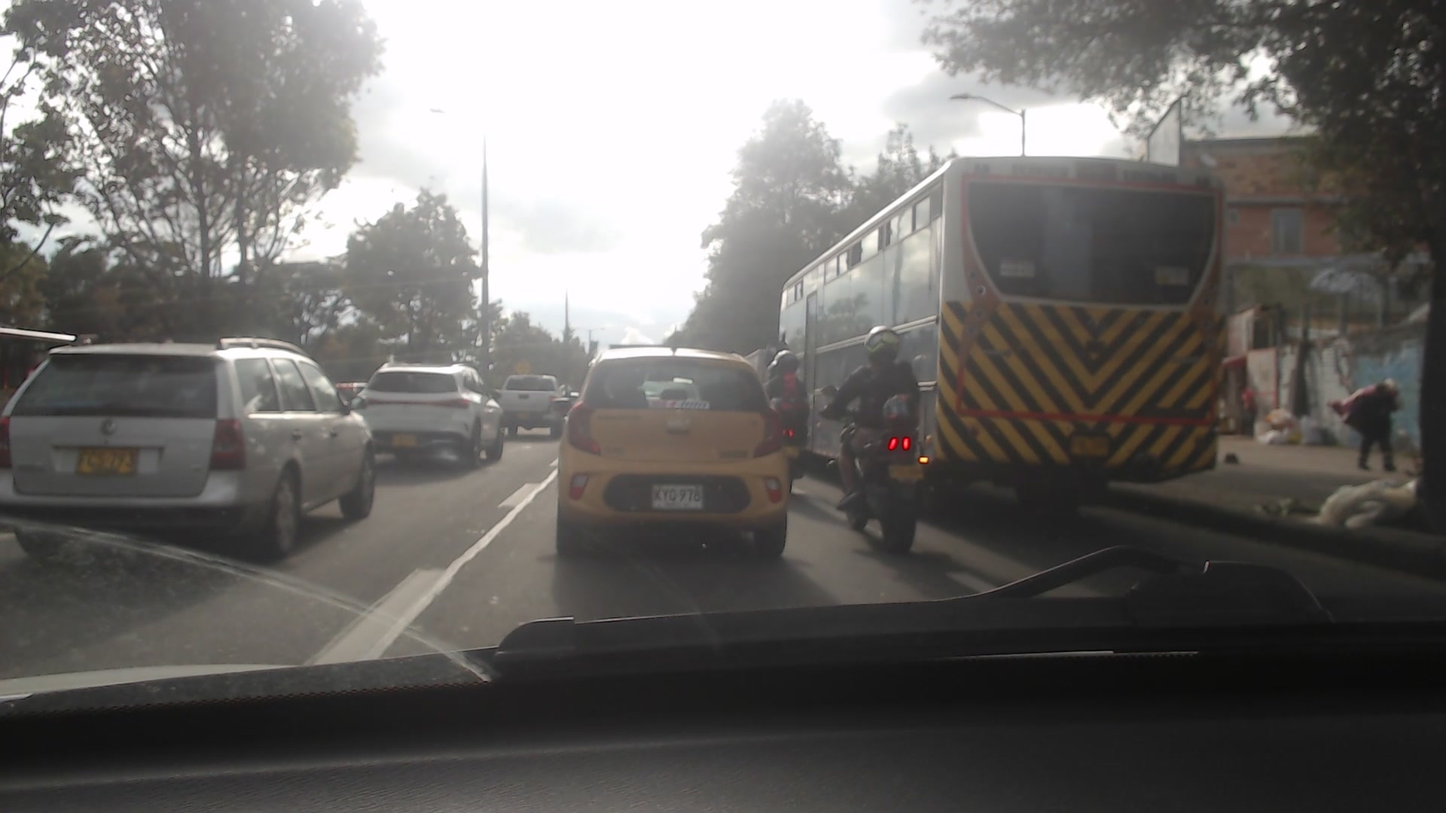bus: (771, 152, 1220, 512)
car: (0, 339, 383, 539), (560, 351, 797, 565), (354, 362, 512, 467), (495, 377, 560, 437)
motorcycle: (817, 426, 922, 547)
person: (837, 330, 921, 480), (1341, 372, 1403, 471)
